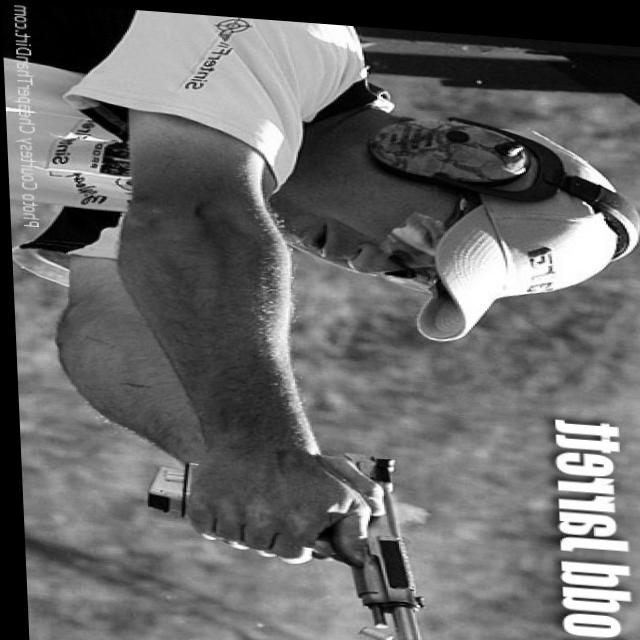handgun: (144, 439, 427, 640)
